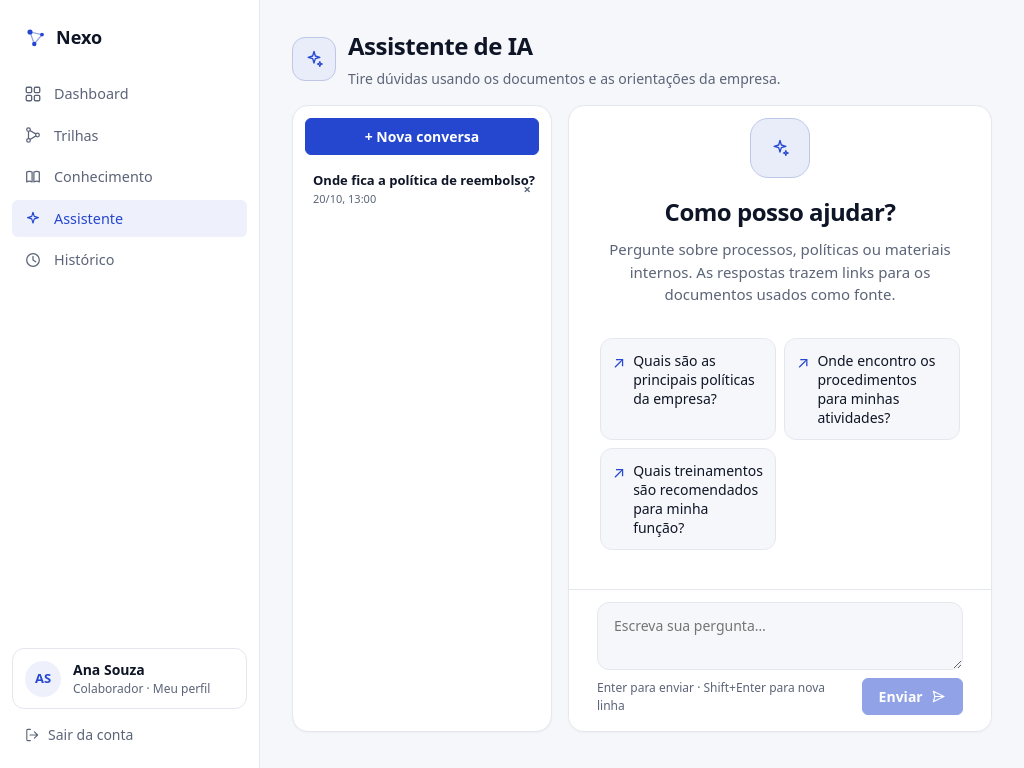
AssistentePage › envia a pergunta e abre a fonte em Conhecimento
(page scrolled)
Type "Como solicito férias?" into the text box labelled "Escreva sua pergunta" at (780,636), box [597,602,963,670]
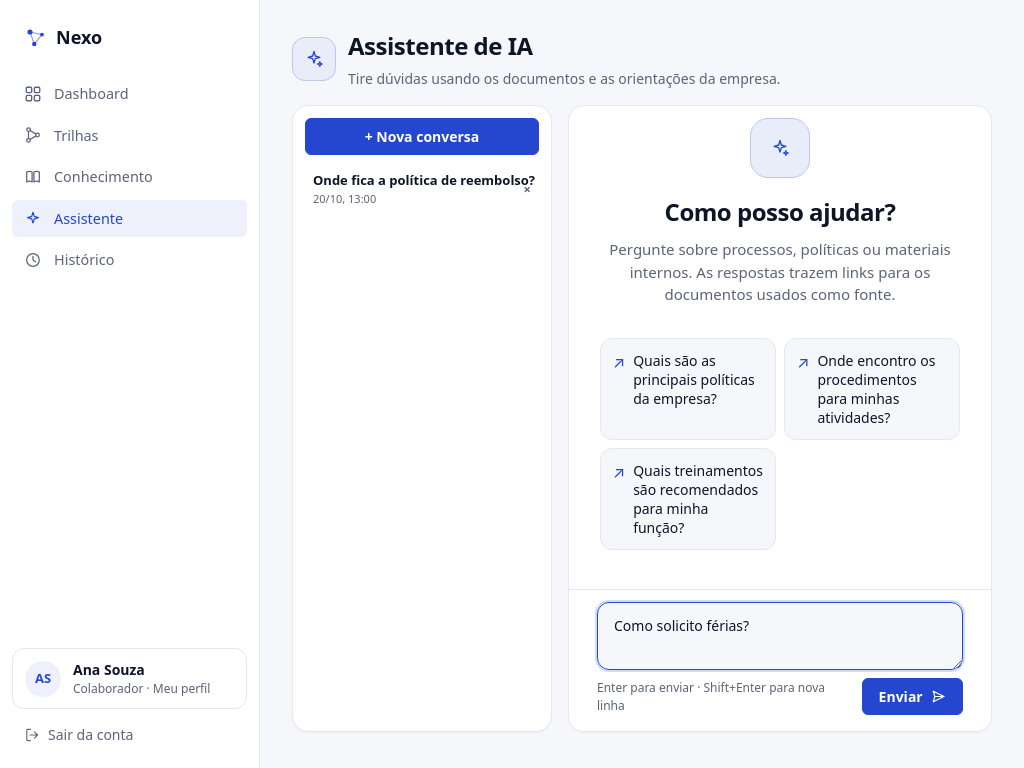
Press Enter
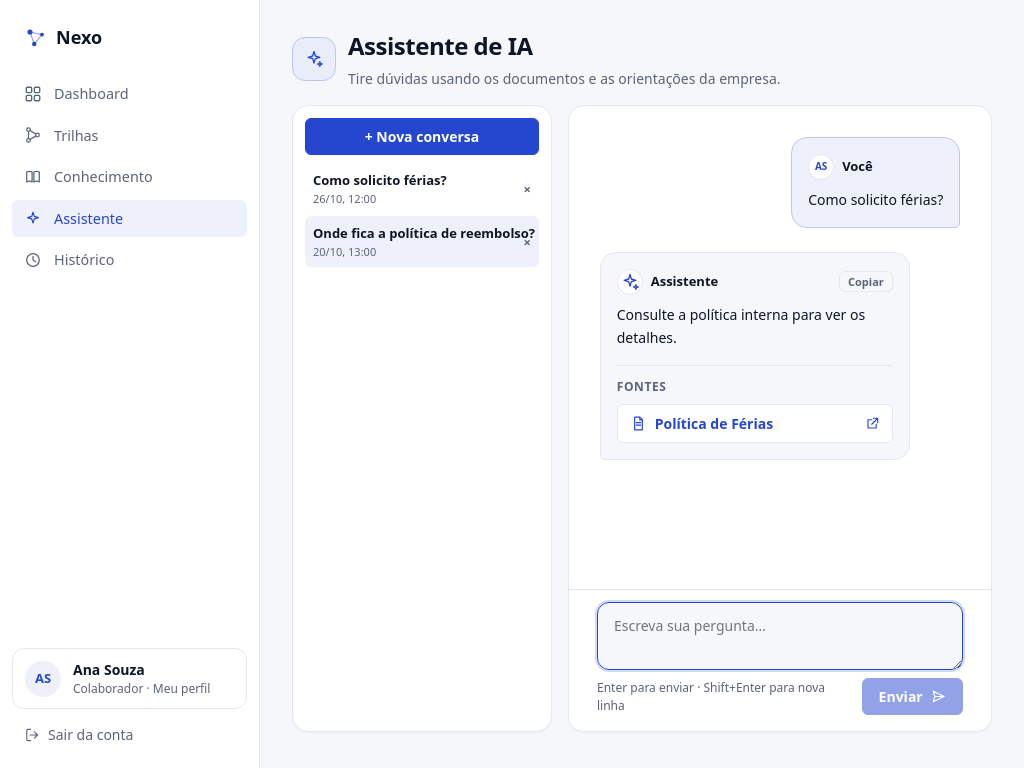
Expected: the text "Como solicito férias?" below "Você" is shown, [808,190,943,209]
Expected: the text "Consulte a política interna para ver os detalhes." is shown, [617,305,865,347]
Click the link "Política de Férias" at (755,424), box [630,413,880,434]
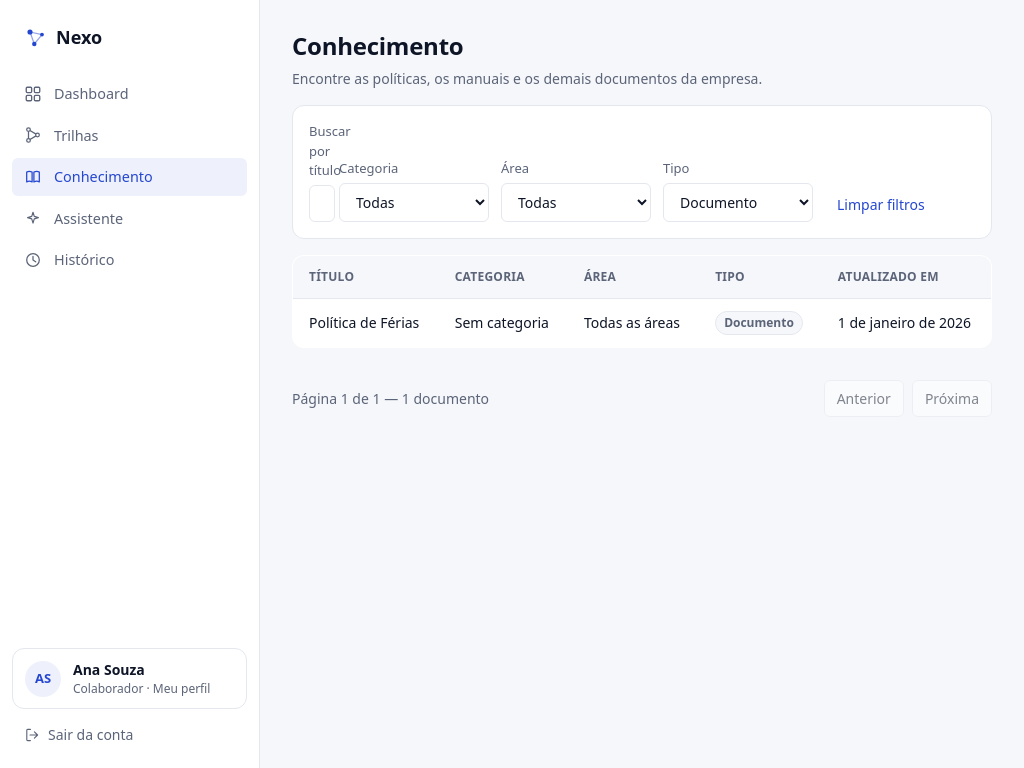
Expected: the heading "Conhecimento" is shown, [292,29,463,62]
Expected: the row "Política de Férias" is shown, [292,298,992,347]
